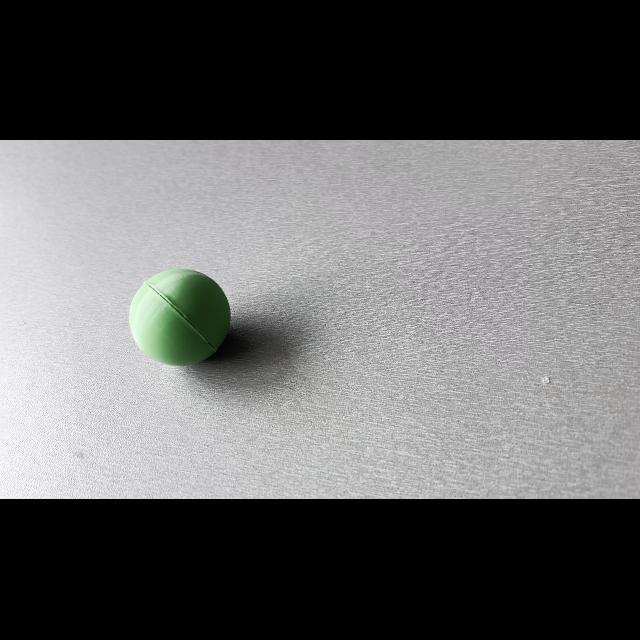objects: (125, 262, 238, 372)
